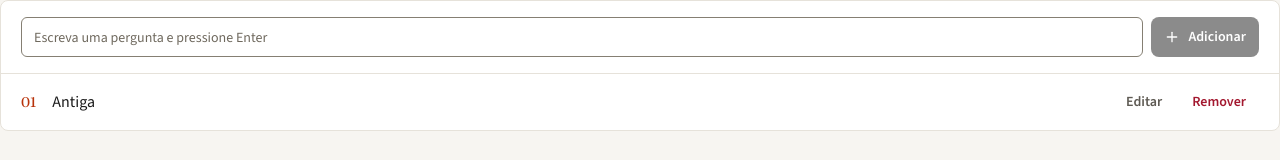
it: adiciona pergunta no escopo geral e edita pelo botão
The image size is (1280, 160).
Step 1. Type "Por que esta vaga?" into the field named "Nova pergunta" → [582, 37], box x1=21 y1=17 x2=1143 y2=57
Then press Enter
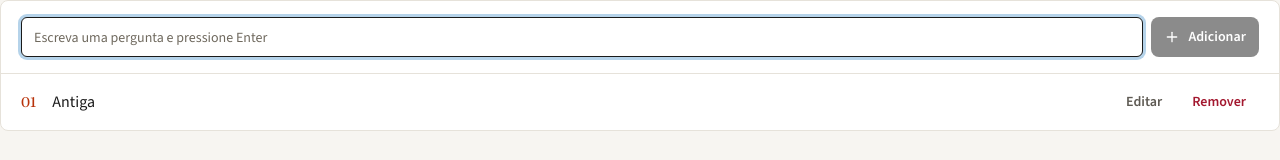
Step 2. Click the button with aria-label "Editar Antiga" → [1144, 102], box x1=1113 y1=86 x2=1175 y2=118
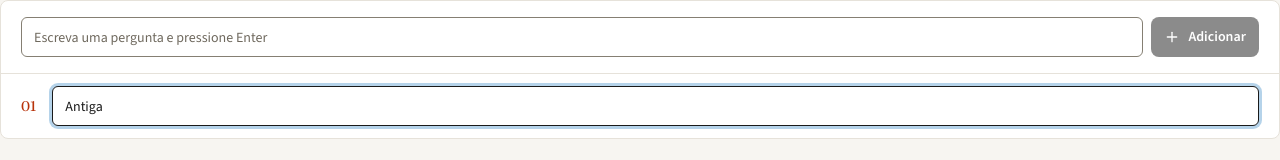
Check: the field named "Editar pergunta" holds "Antiga", box x1=52 y1=86 x2=1259 y2=126
